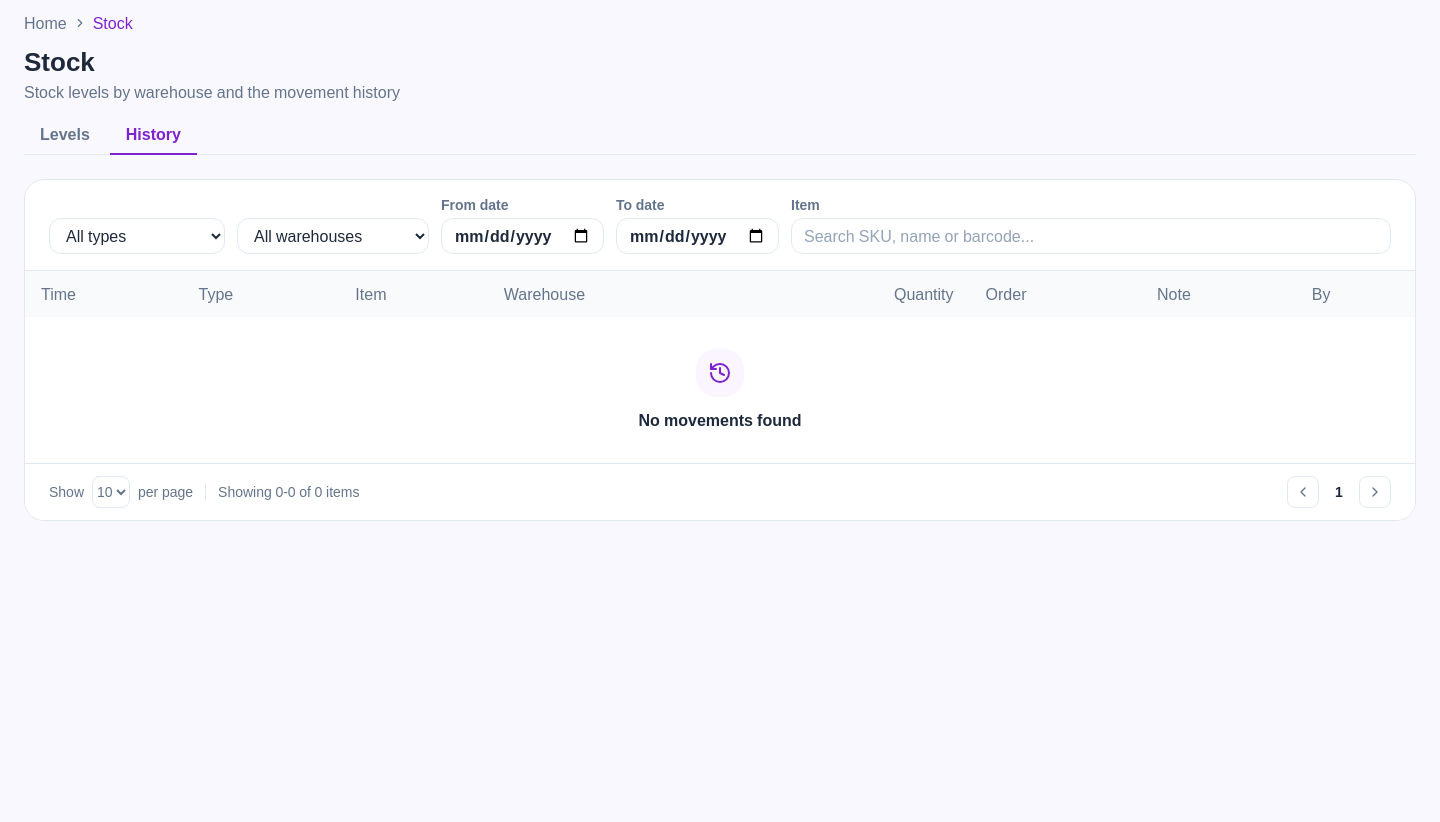
it: StockPage › initialTab=movements ເປີດແຖບປະຫວັດ; initialQuery ສົ່ງໃຫ້ແຖບຍອດ
expect the tab "History" is shown: met, box [110,114,197,154]
expect the panel named "History" is shown: met, box [24,178,1416,520]
Click the tab "Levels" at coordinates (65, 134), box [24,114,106,154]
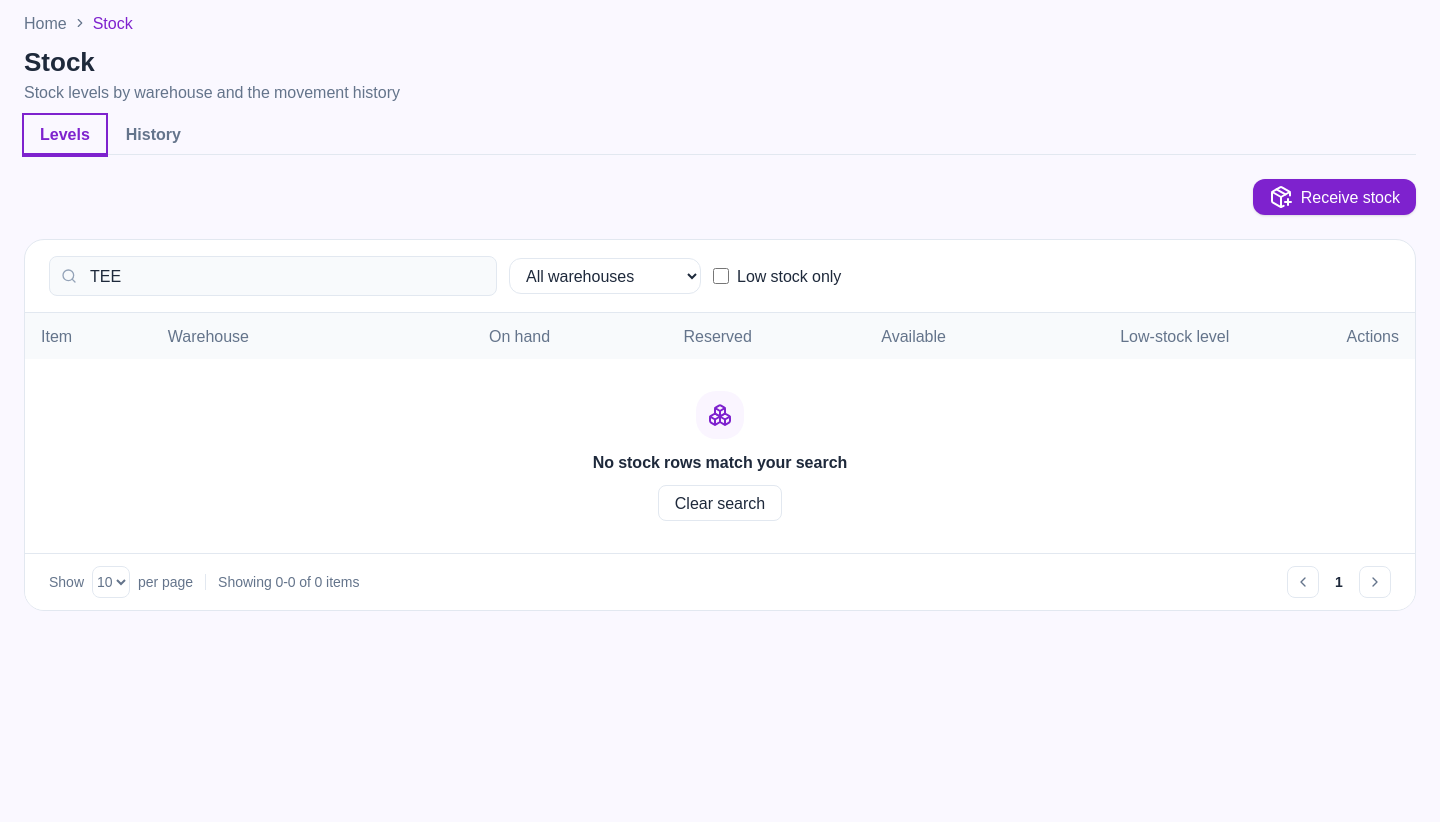
expect the panel named "Levels" is shown: met, box [24,178,1416,610]
expect the search field showing "TEE" is shown: met, box [49,256,497,296]
